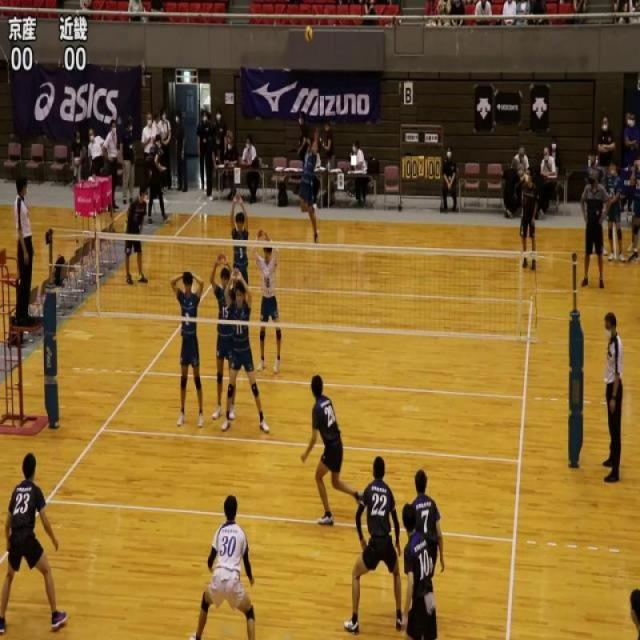volleyball: (304, 23, 314, 45)
